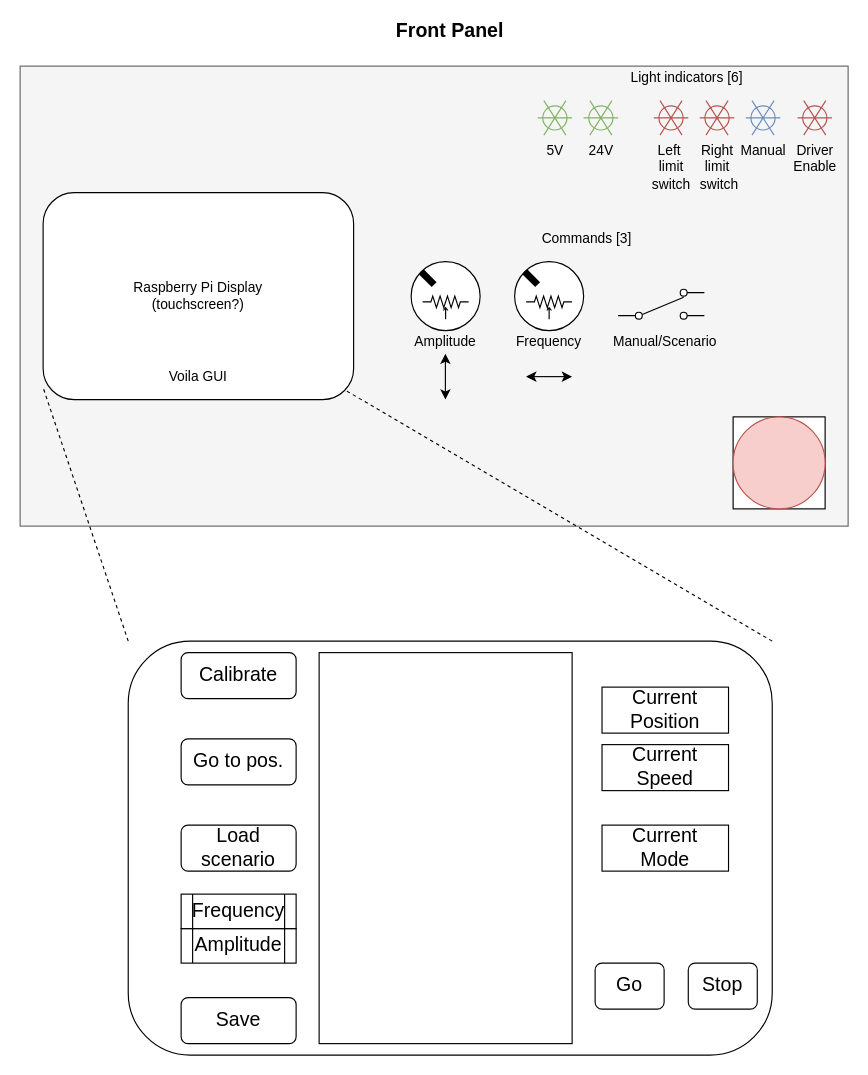
Some shapes in this 868 by 1075 pixel diagram are drawn without their labels. Each missing label, with the centre of its shape:
"Chart" goes at (x=445, y=847).
"Emergency Switch (230V)" goes at (x=778, y=462).
